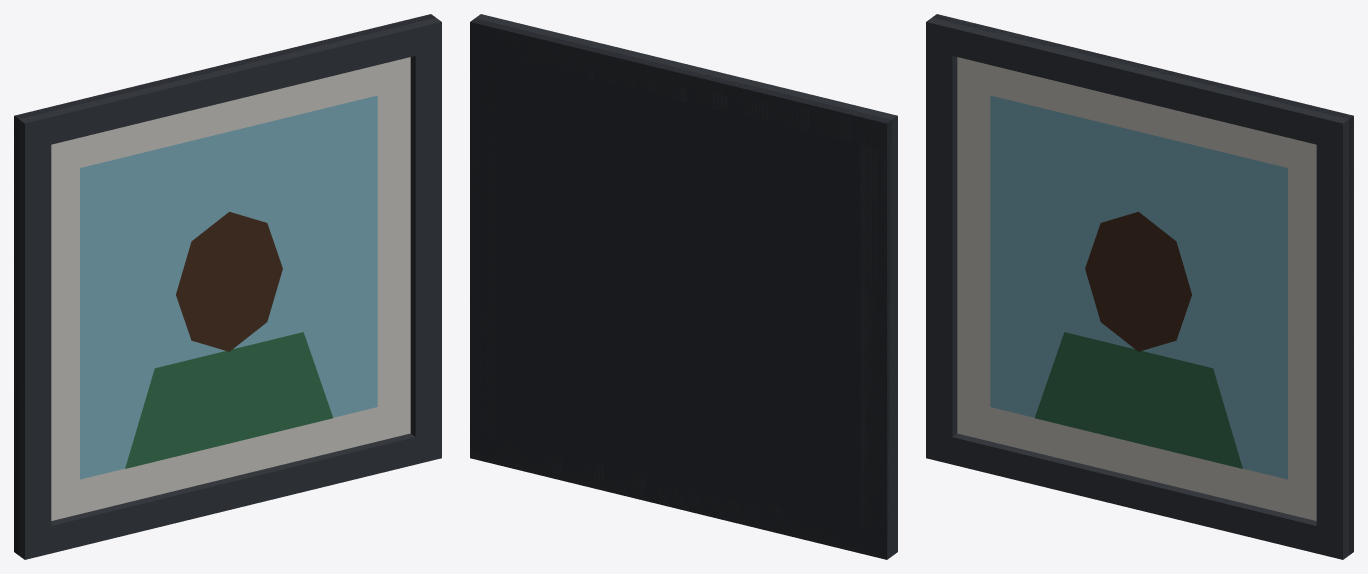
File: picture-frame-23.glb
3 views of the same model, side by side, from view 1: azimuth 30°, elevation 25°; view 2: azimuth 150°, elevation 25°; view 3: azimuth 330°, elevation 25° (orthographic).
Visible parts, largest first — view 1: picture_frame_23; view 2: picture_frame_23; view 3: picture_frame_23.
Boxes of the visible parts, x1,y1,x2,y2 form: picture_frame_23: (14, 14, 441, 559); picture_frame_23: (470, 14, 897, 559); picture_frame_23: (926, 14, 1353, 559).
Size of the model in its own units: 0.5835 by 0.5835 by 0.0261.
